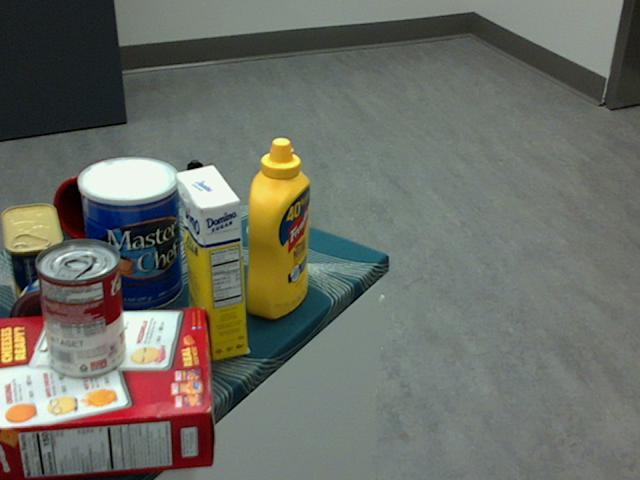cracker_box: (0, 309, 214, 479)
large_marker: (187, 159, 206, 253)
master_chef_can: (76, 156, 181, 314)
mug: (52, 159, 143, 247)
mustard_bottle: (244, 136, 310, 318)
potted_meat_can: (0, 202, 68, 313)
sugar_box: (176, 163, 247, 361)
tomato_soup_can: (35, 240, 124, 379)
tuna_fish_can: (9, 273, 104, 363)
